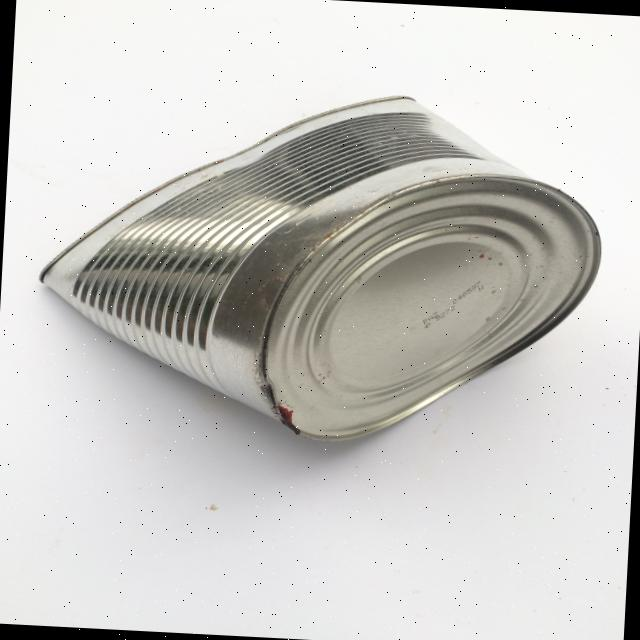metal: (30, 76, 610, 456)
